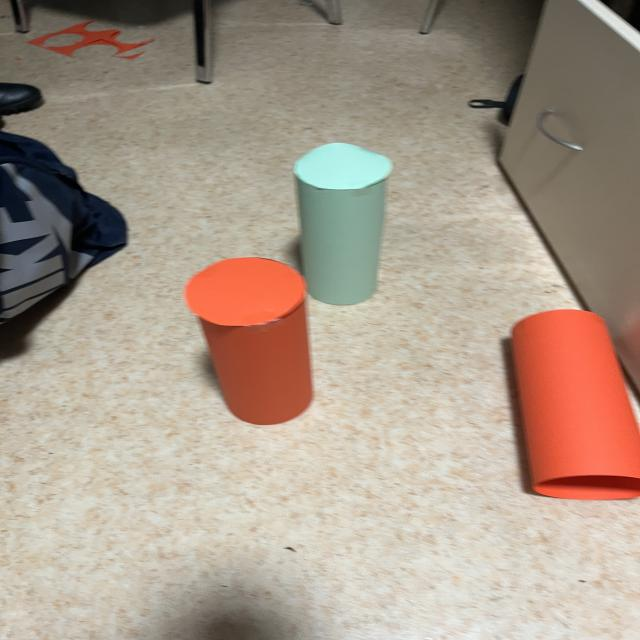meta: (293, 143, 392, 305)
przeszkoda: (511, 310, 640, 499), (183, 257, 312, 425)
